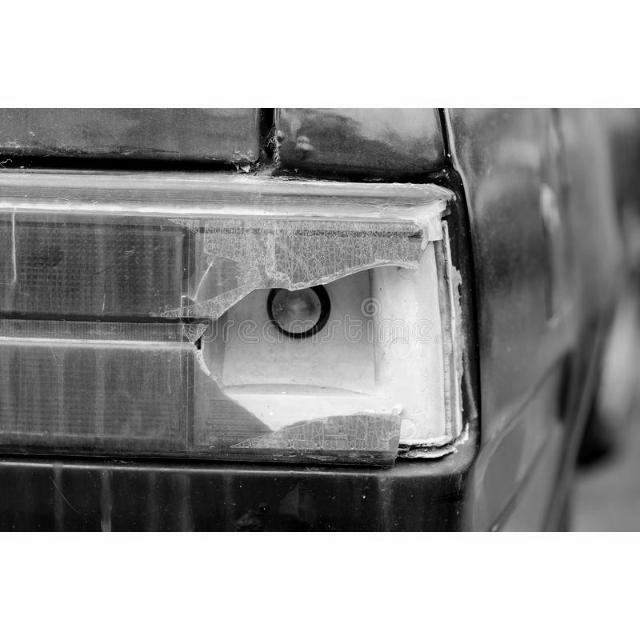Taillight-Damage: (1, 162, 510, 486)
